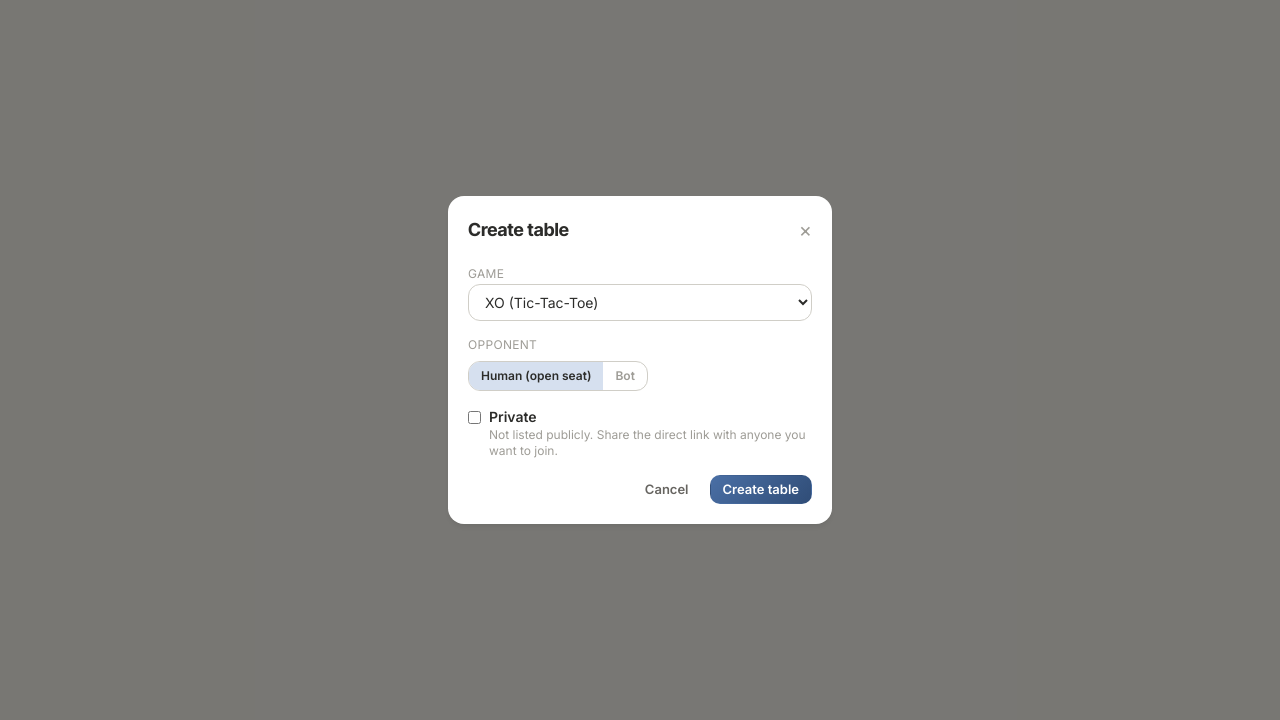
Test: CreateTableModal — Phase C.1 bot picker › shows empty state when filters yield 0 bots
The width and height of the screenshot is (1280, 720).
Click the button with test id "create-table-opponent-bot": {"x": 625, "y": 376} [603,362,647,390]
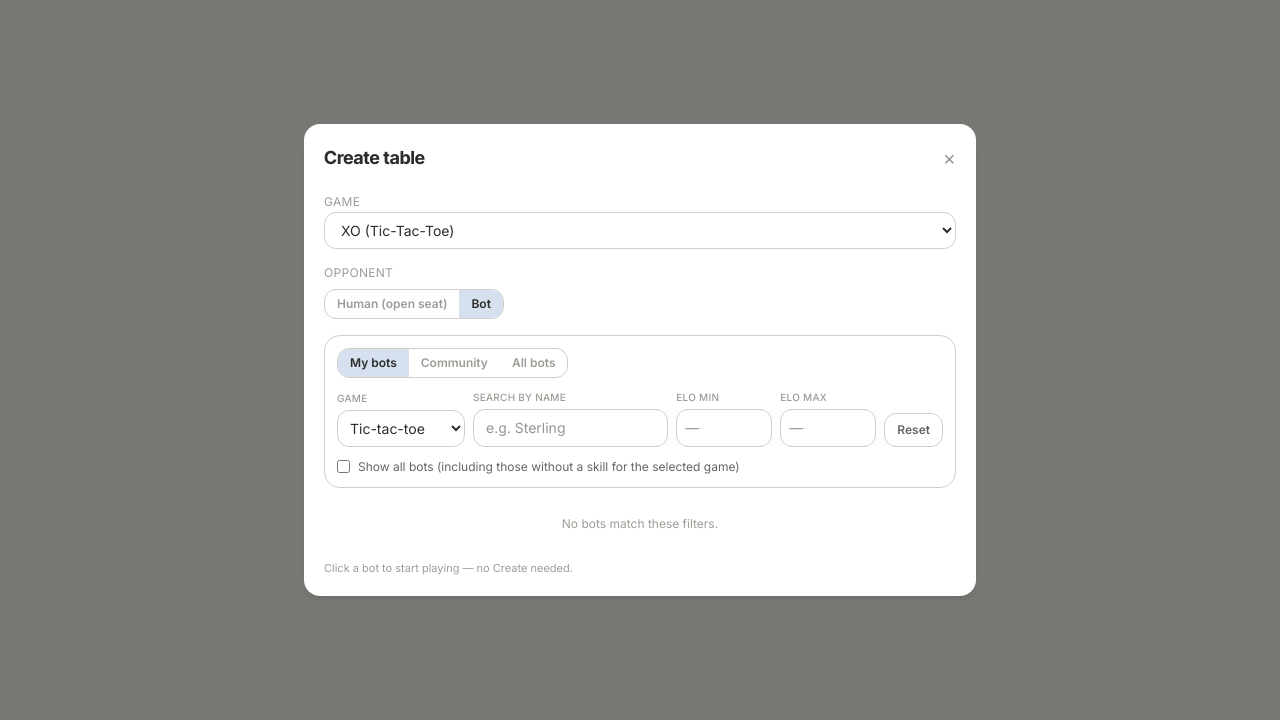
Now the text "No bots match these filters." is shown, box [562,516,718,531]
